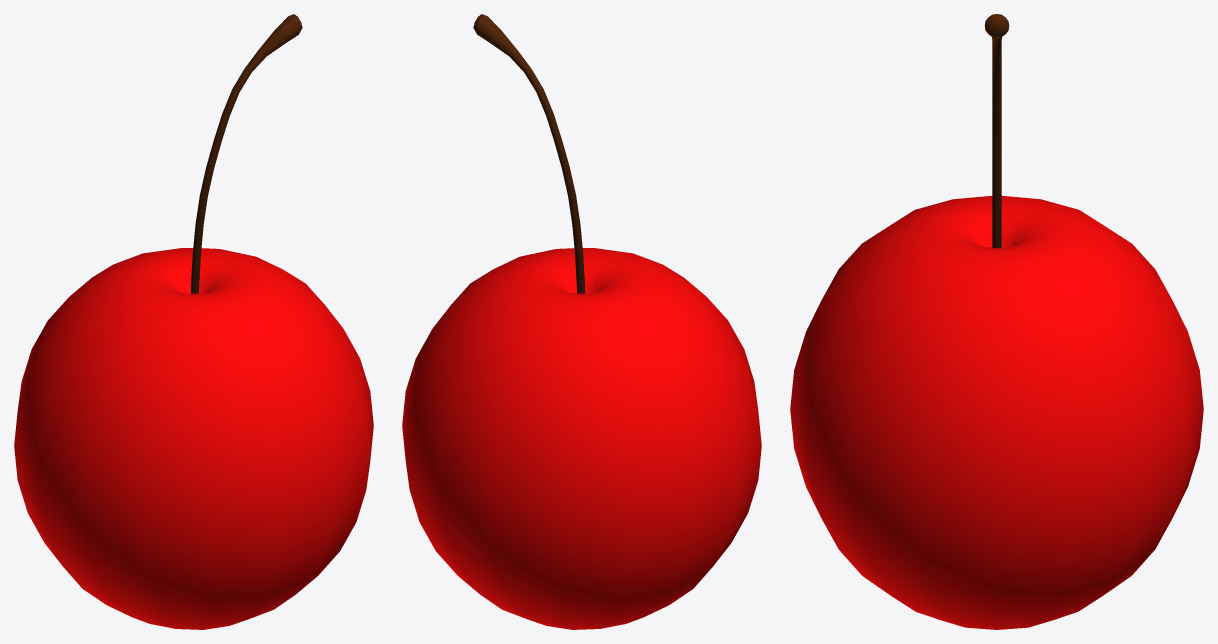
The model's file is cherry 1.fbx.
3 views of the same model, side by side, from view 1: azimuth 30°, elevation 25°; view 2: azimuth 150°, elevation 25°; view 3: azimuth 270°, elevation 25° (orthographic). The views are drawn at different scales.
Visible parts, largest first — view 1: cherry; view 2: cherry; view 3: cherry.
Part boxes in pixels (bbox=[...]): cherry: bbox=[14, 14, 373, 629]; cherry: bbox=[402, 14, 761, 629]; cherry: bbox=[790, 14, 1203, 629].
Bounding box in the file's own units: 0.9088 × 1.58 × 0.9088.
